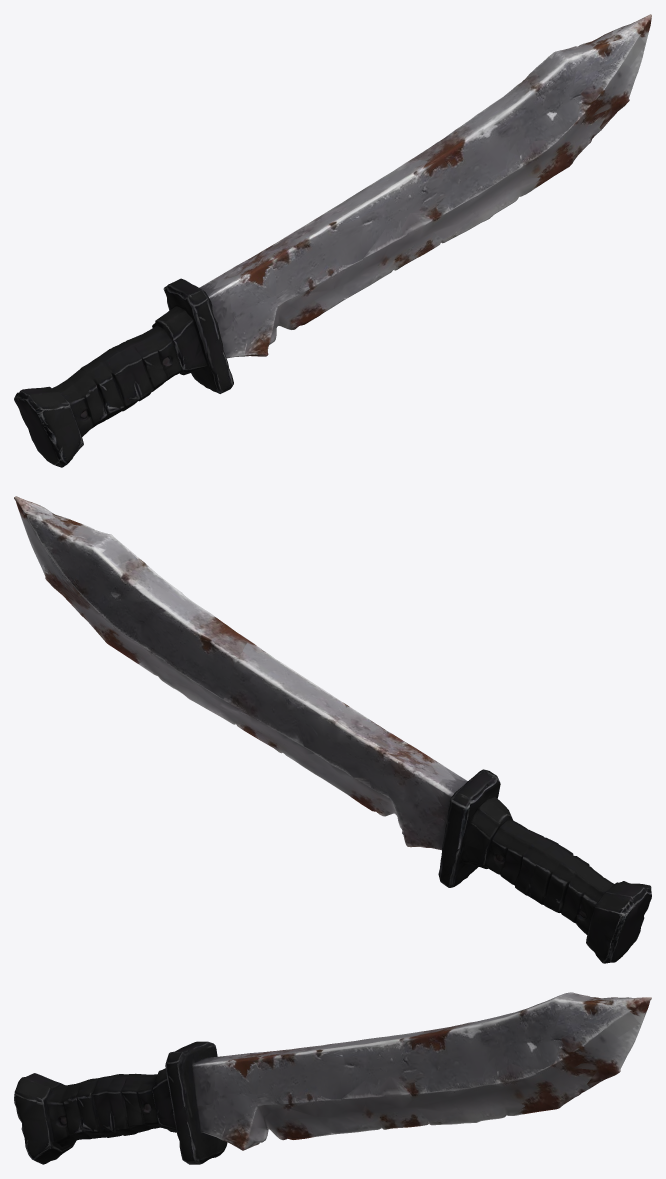
File: weapon_machete_machete_idle.glb
The picture shows the model from 3 angles, top to bottom: view 1: azimuth 30°, elevation 25°; view 2: azimuth 150°, elevation 25°; view 3: azimuth 330°, elevation 25°; orthographic projection.
Visible parts, largest first — view 1: tripo_node_918d4c75-6c62-48ae-94ef-7d17f1abf05b; view 2: tripo_node_918d4c75-6c62-48ae-94ef-7d17f1abf05b; view 3: tripo_node_918d4c75-6c62-48ae-94ef-7d17f1abf05b.
Part boxes in pixels (box(x1,y1,x2,y2)): tripo_node_918d4c75-6c62-48ae-94ef-7d17f1abf05b: box(14, 14, 651, 467); tripo_node_918d4c75-6c62-48ae-94ef-7d17f1abf05b: box(14, 496, 651, 963); tripo_node_918d4c75-6c62-48ae-94ef-7d17f1abf05b: box(14, 992, 651, 1164).
Bounding box in the file's own units: 0.7001 × 0.3312 × 0.0727.
1 material, 1 textured.
